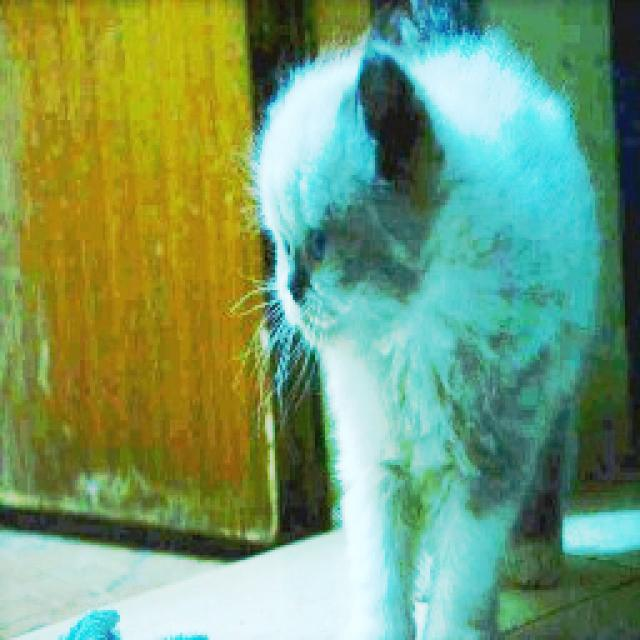cat: (224, 4, 614, 630)
